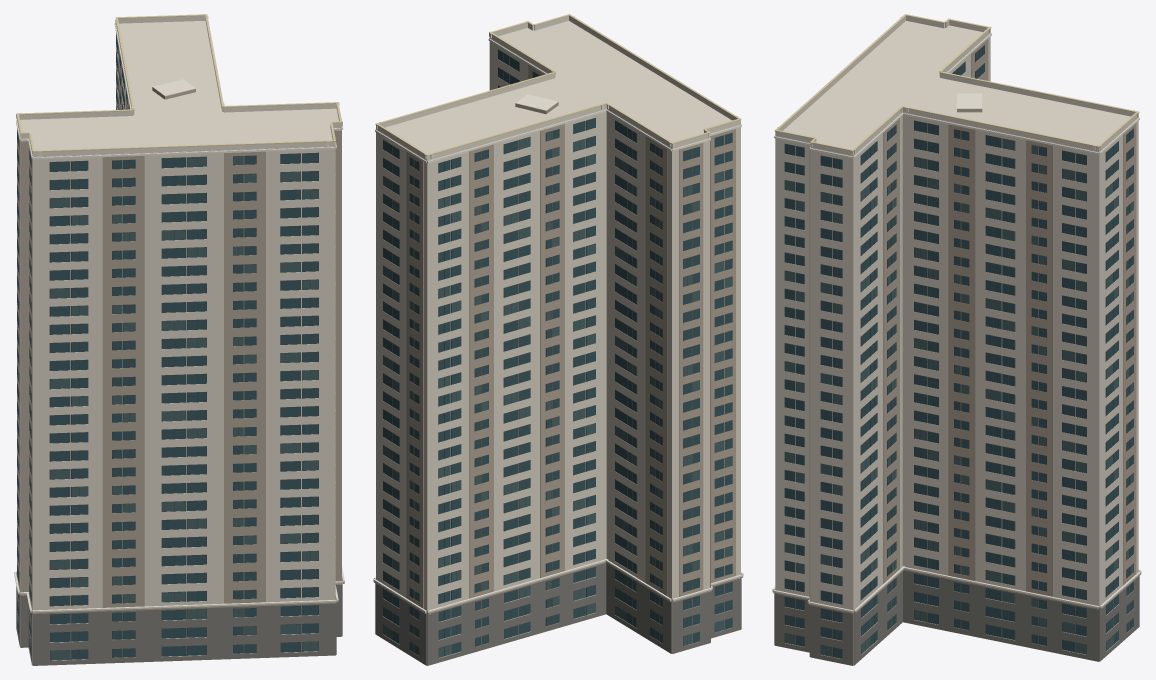
Rendered from bespoke-raemian-prestige-124.glb.
The picture shows the model from 3 angles, left to right: view 1: azimuth 30°, elevation 25°; view 2: azimuth 150°, elevation 25°; view 3: azimuth 270°, elevation 25°; orthographic projection.
Parts seen in each view (by area): view 1: Prestige_warm_ivory_rendered_wall010, Prestige_wide_taupe_pilasters010, Prestige_recessed_blue_green_window010, Prestige_dark_bronze_thin_window_frame010, Prestige_dark_brown_grey_stone_base010, Prestige_muted_green_window_pair010, Prestige_pale_limestone_band010, Prestige_cream_gold_crown_coping010; view 2: Prestige_warm_ivory_rendered_wall010, Prestige_wide_taupe_pilasters010, Prestige_recessed_blue_green_window010, Prestige_dark_bronze_thin_window_frame010, Prestige_dark_brown_grey_stone_base010, Prestige_muted_green_window_pair010, Prestige_pale_limestone_band010, Prestige_cream_gold_crown_coping010; view 3: Prestige_warm_ivory_rendered_wall010, Prestige_recessed_blue_green_window010, Prestige_wide_taupe_pilasters010, Prestige_dark_bronze_thin_window_frame010, Prestige_dark_brown_grey_stone_base010, Prestige_muted_green_window_pair010, Prestige_pale_limestone_band010, Prestige_cream_gold_crown_coping010.
Boxes of the visible parts, left/top/right/bottom form: Prestige_warm_ivory_rendered_wall010: left=17, top=16, right=341, bottom=664; Prestige_wide_taupe_pilasters010: left=16, top=51, right=344, bottom=658; Prestige_recessed_blue_green_window010: left=17, top=35, right=318, bottom=659; Prestige_dark_bronze_thin_window_frame010: left=17, top=34, right=318, bottom=660; Prestige_dark_brown_grey_stone_base010: left=16, top=573, right=342, bottom=665; Prestige_muted_green_window_pair010: left=17, top=71, right=318, bottom=660; Prestige_pale_limestone_band010: left=14, top=18, right=344, bottom=612; Prestige_cream_gold_crown_coping010: left=16, top=14, right=342, bottom=152; Prestige_warm_ivory_rendered_wall010: left=376, top=16, right=740, bottom=665; Prestige_wide_taupe_pilasters010: left=373, top=65, right=743, bottom=656; Prestige_recessed_blue_green_window010: left=383, top=50, right=732, bottom=655; Prestige_dark_bronze_thin_window_frame010: left=383, top=49, right=732, bottom=657; Prestige_dark_brown_grey_stone_base010: left=375, top=563, right=741, bottom=665; Prestige_muted_green_window_pair010: left=383, top=85, right=732, bottom=657; Prestige_pale_limestone_band010: left=373, top=33, right=743, bottom=612; Prestige_cream_gold_crown_coping010: left=375, top=14, right=741, bottom=156; Prestige_warm_ivory_rendered_wall010: left=775, top=16, right=1138, bottom=665; Prestige_recessed_blue_green_window010: left=785, top=46, right=1133, bottom=658; Prestige_wide_taupe_pilasters010: left=772, top=39, right=1141, bottom=646; Prestige_dark_bronze_thin_window_frame010: left=784, top=45, right=1133, bottom=658; Prestige_dark_brown_grey_stone_base010: left=774, top=570, right=1139, bottom=665; Prestige_muted_green_window_pair010: left=785, top=139, right=1133, bottom=656; Prestige_pale_limestone_band010: left=772, top=27, right=1141, bottom=612; Prestige_cream_gold_crown_coping010: left=774, top=14, right=1139, bottom=151.
Size of the model in its own units: 45.87 by 79.3 by 51.54.
